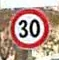limite 30: (7, 7, 50, 49)
